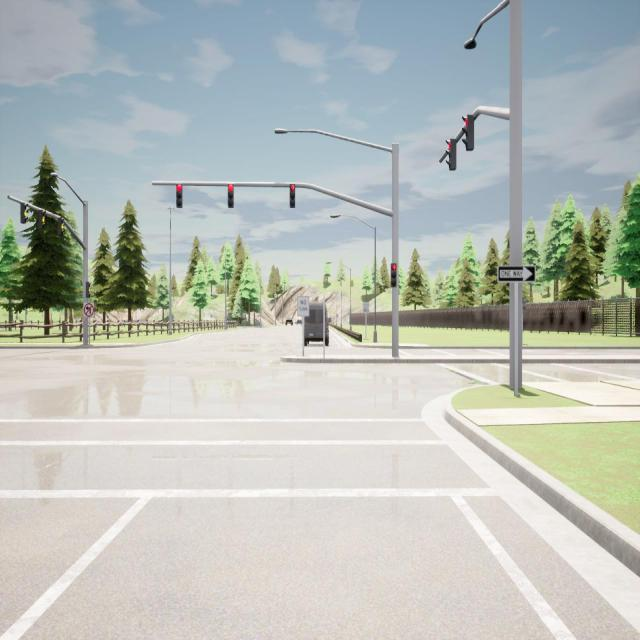Traffic_Signs: (498, 265, 536, 283), (297, 297, 309, 317), (84, 302, 94, 318), (362, 302, 370, 312)
Vehicle: (304, 303, 329, 347), (286, 318, 292, 326), (296, 319, 302, 325)
traffic_light: (461, 114, 475, 152), (445, 138, 456, 170), (390, 263, 398, 288), (227, 184, 234, 208), (38, 210, 46, 230), (21, 202, 28, 224), (57, 217, 65, 236), (176, 183, 182, 208), (290, 184, 296, 208), (85, 282, 92, 298)
